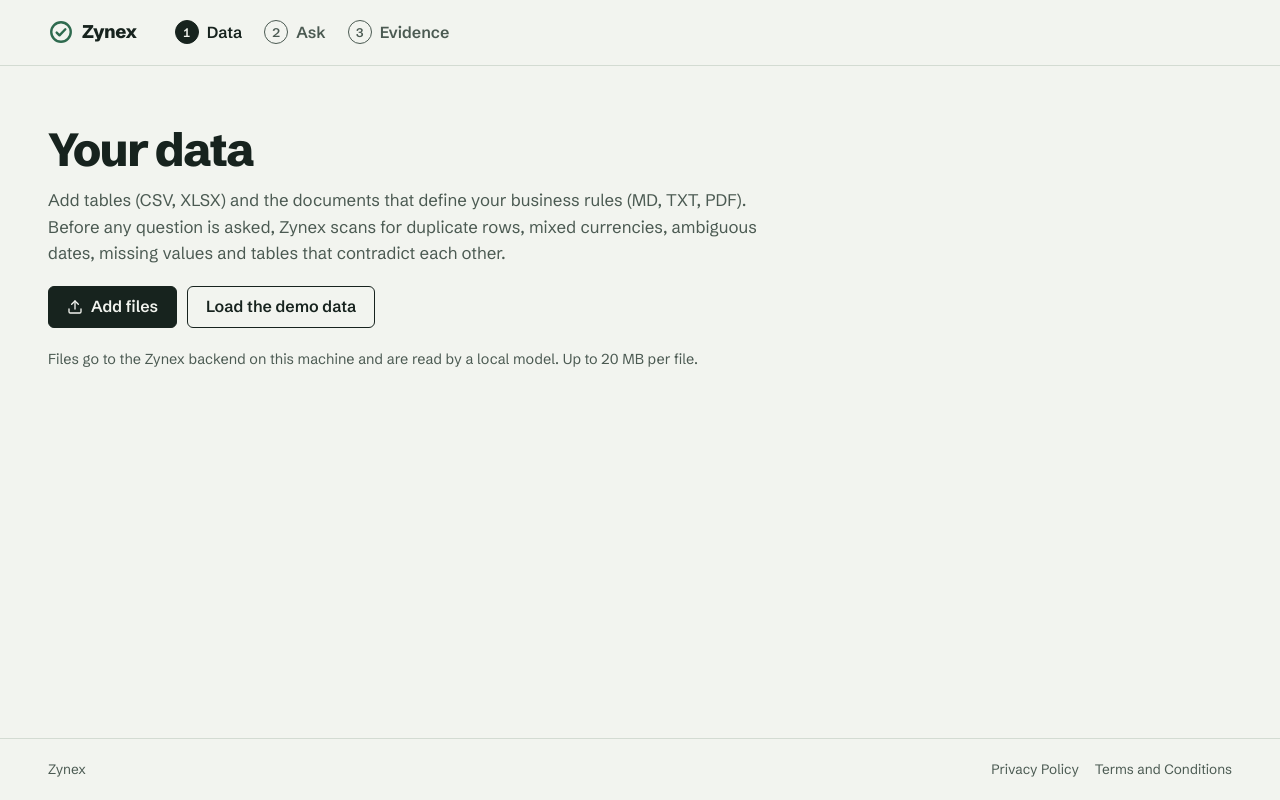
Scenario: Zynex application › navigates between product routes and identifies the active link
Step 1. Click the link "3 Evidence" → coordinates (398, 32), box [348,20,449,44]
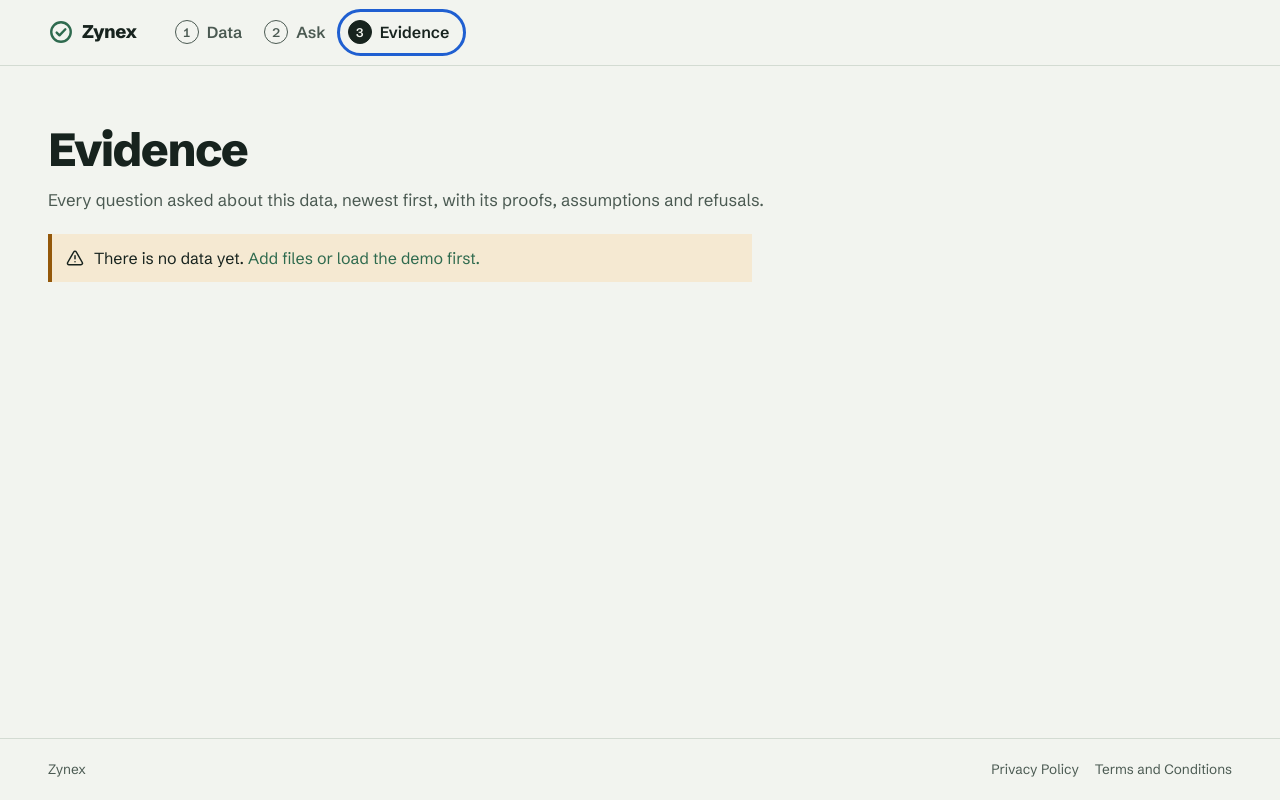
expect the heading "Evidence" is shown: met, box [48,121,247,178]
